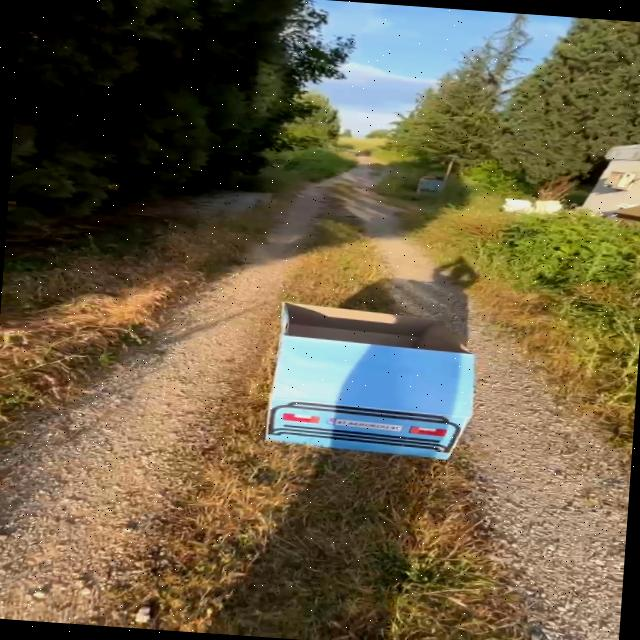blue_car: (216, 264, 538, 485)
